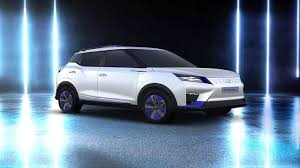XUV 400: (55, 44, 247, 125)
